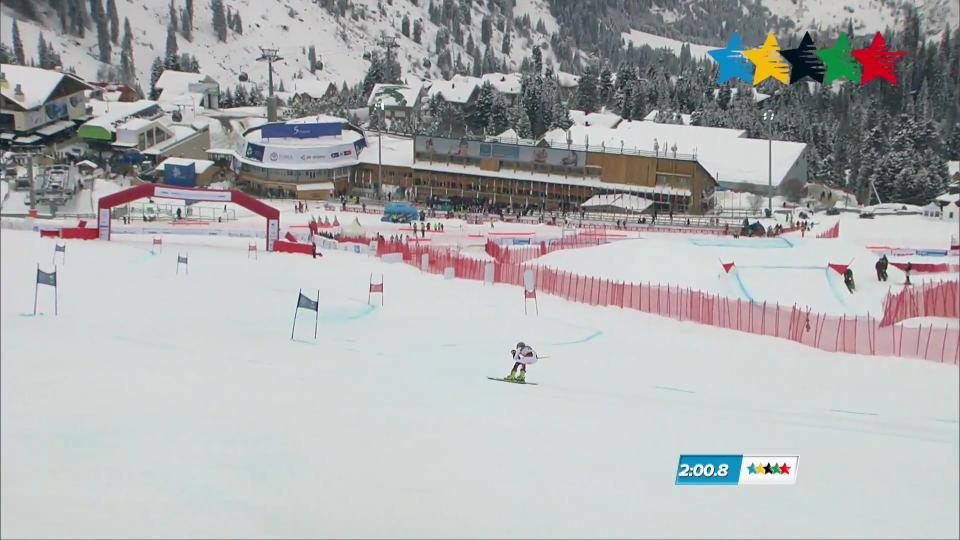gate: (745, 33, 793, 87), (816, 33, 863, 87)
